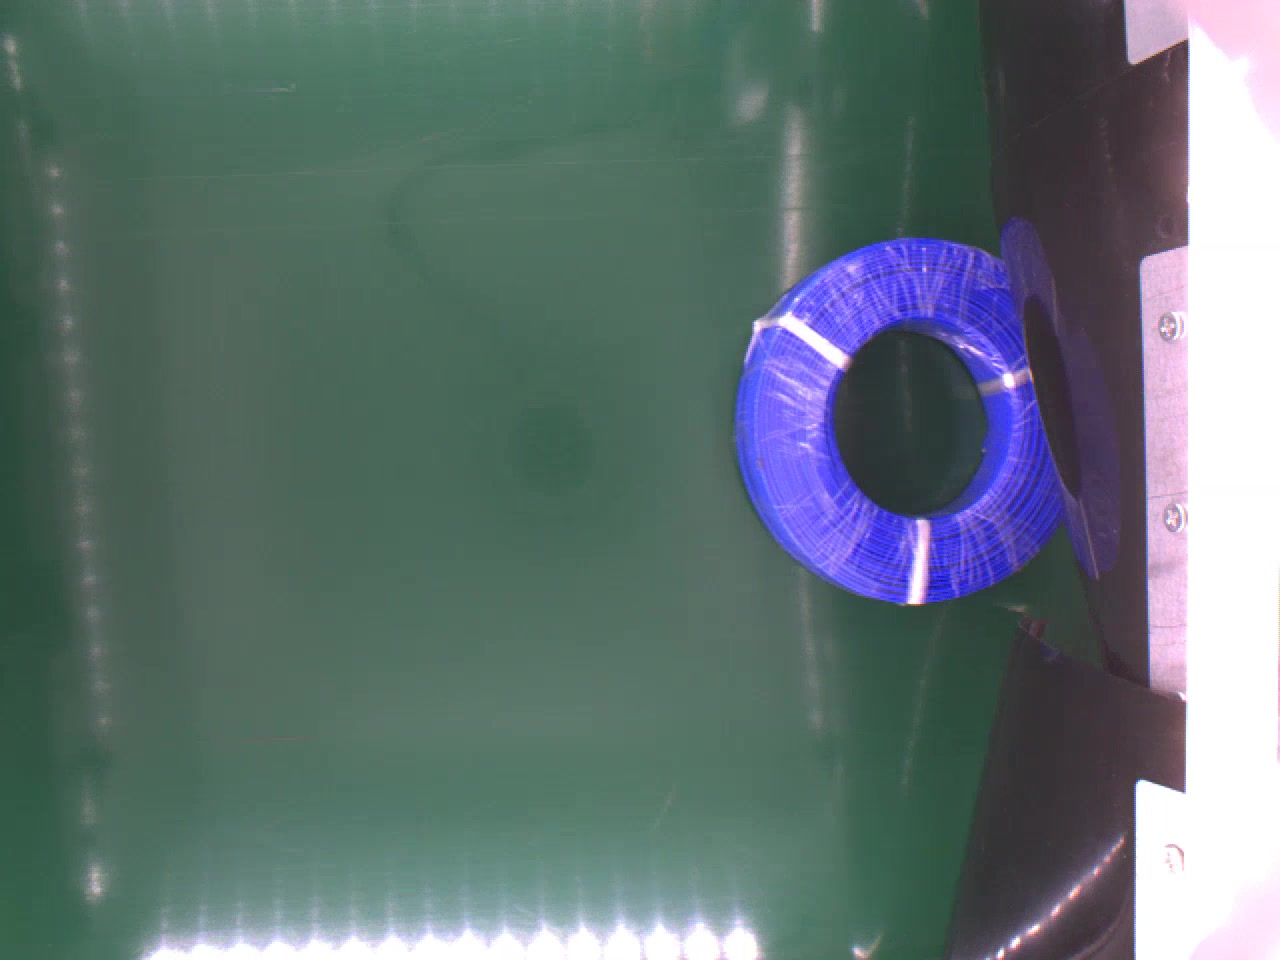blue: (736, 236, 1065, 608)
